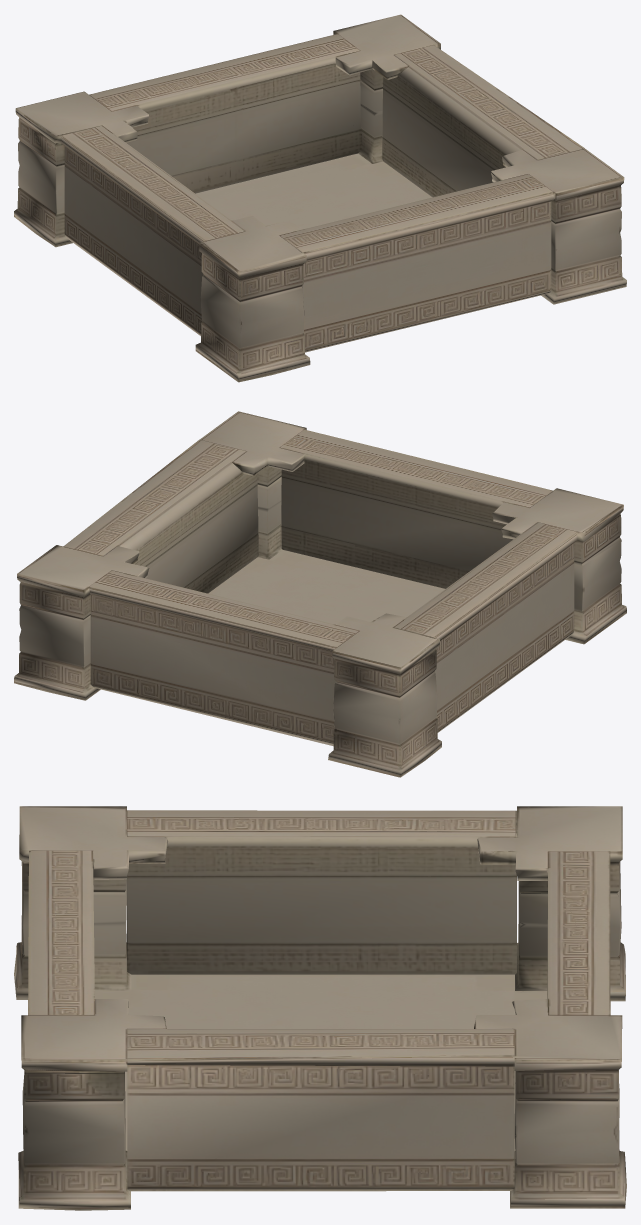
The model's file is tripo_convert_e0664b24-e778-491b-9732-73398662051c.fbx.
3 renders of one model, top to bottom at view 1: azimuth 30°, elevation 25°; view 2: azimuth 150°, elevation 25°; view 3: azimuth 270°, elevation 25°, orthographic. The views are drawn at different scales.
Visible parts, largest first — view 1: tripo_node_e0664b24; view 2: tripo_node_e0664b24; view 3: tripo_node_e0664b24.
Boxes of the visible parts, x1=… form: tripo_node_e0664b24: x1=14, y1=14, x2=626, y2=382; tripo_node_e0664b24: x1=14, y1=411, x2=626, y2=777; tripo_node_e0664b24: x1=14, y1=806, x2=626, y2=1210.
Bounding box in the file's own units: 99.76 × 99.95 × 26.61.
